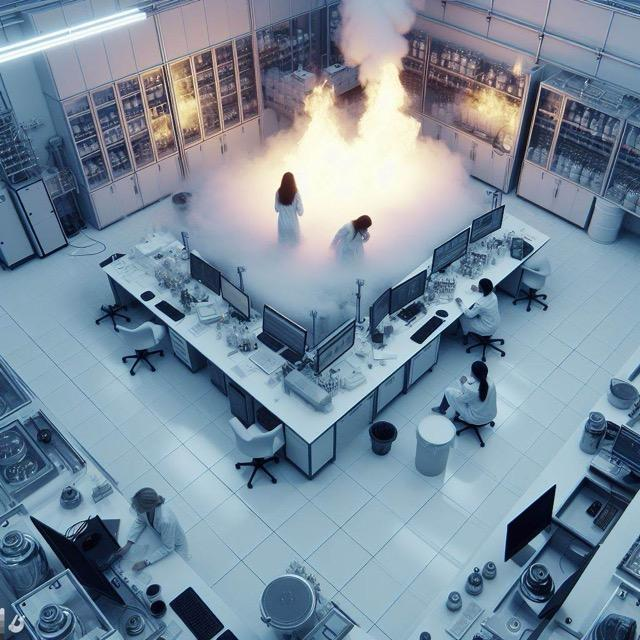fire: (335, 0, 426, 63)
smoke: (265, 56, 432, 226)
